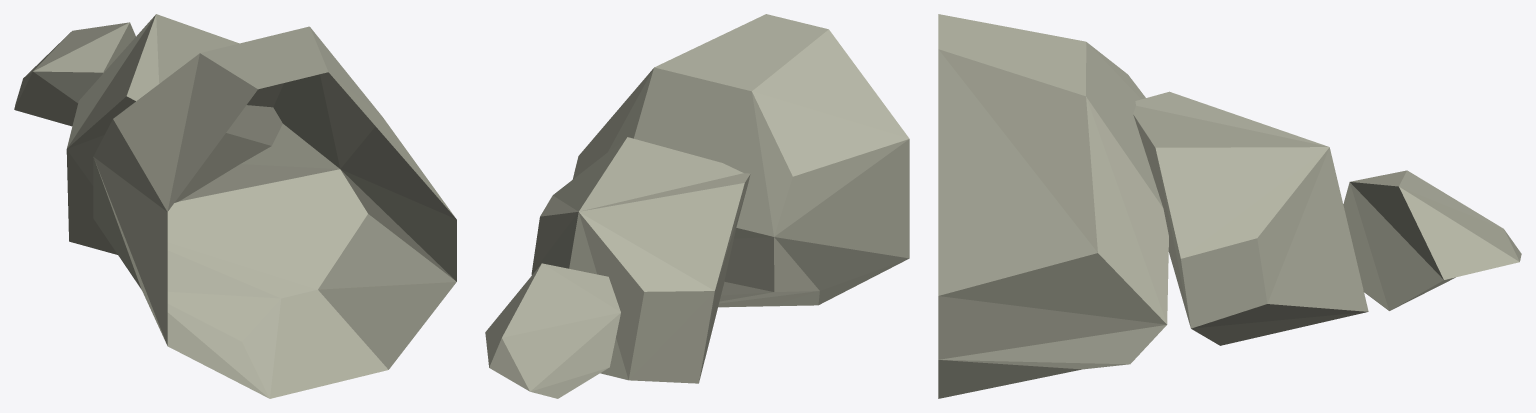
The model's file is Stacked Rocks 01.FBX.
3 renders of one model, left to right at view 1: azimuth 30°, elevation 25°; view 2: azimuth 150°, elevation 25°; view 3: azimuth 270°, elevation 25°, orthographic. The views are drawn at different scales.
Parts seen in each view (by area): view 1: Stacked Rocks 01; view 2: Stacked Rocks 01; view 3: Stacked Rocks 01.
Boxes of the visible parts, x1,y1,x2,y2 form: Stacked Rocks 01: (14, 14, 456, 398); Stacked Rocks 01: (485, 14, 909, 398); Stacked Rocks 01: (938, 14, 1521, 398).
Size of the model in its own units: 80.45 by 135 by 81.6.
